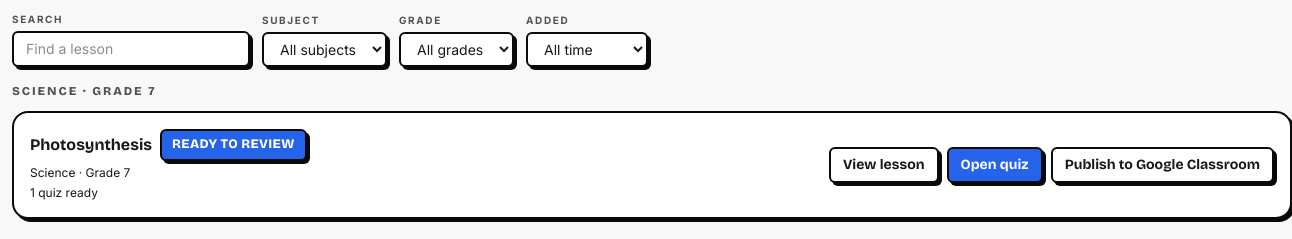
Test: LessonLibrary — Publish to Classroom (gated on googleCourseId) › shows a quiet success state after publishing
Click the button with aria-label "publish to google classroom — Photosynthesis". click: [1162, 165]
box: [1051, 147, 1274, 183]
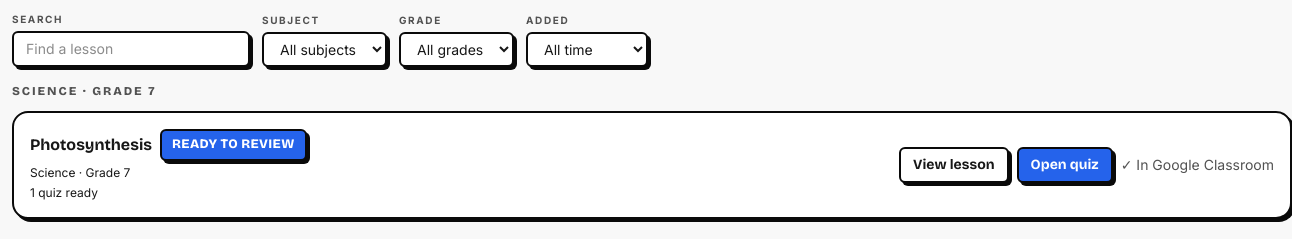
Expected: the text "✓ In Google Classroom" is shown, [1121, 155, 1274, 175]
